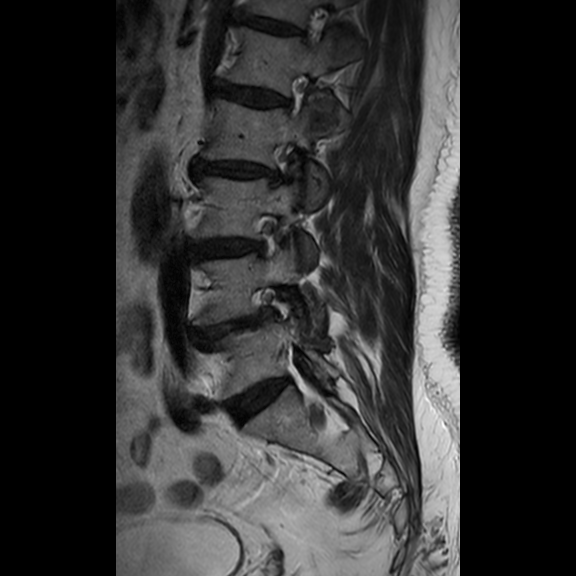RFS0: (272, 60, 320, 130)
RFS1: (241, 203, 294, 275), (246, 279, 303, 340), (264, 132, 316, 195)
